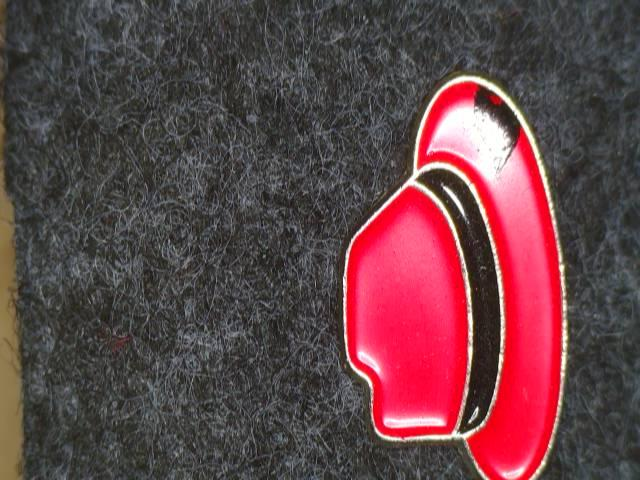Red-Hat: (317, 26, 610, 480)
Scratch: (462, 61, 540, 197)
